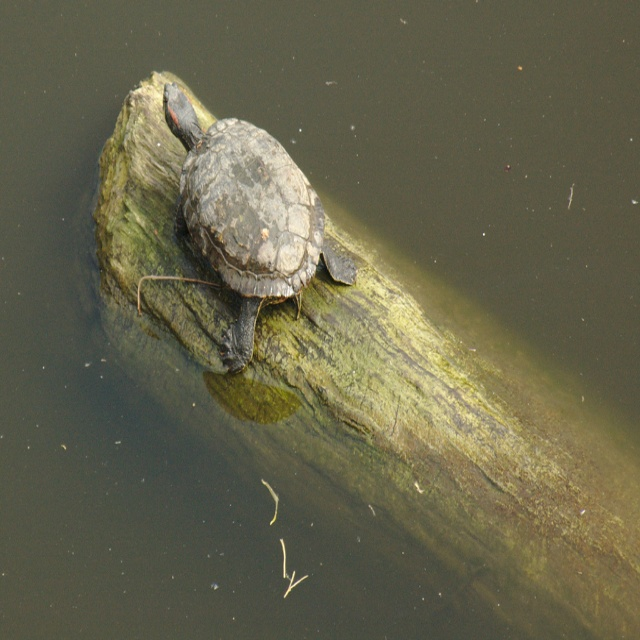Sea turtle: (163, 79, 357, 376)
